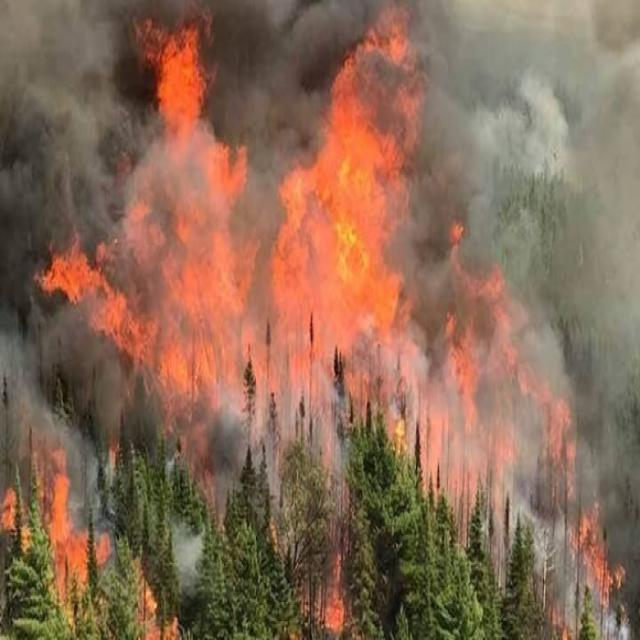Fire: (276, 168, 392, 320), (35, 472, 101, 625), (329, 72, 385, 182), (575, 505, 626, 610), (154, 38, 200, 120), (40, 245, 96, 308), (164, 343, 192, 396), (0, 488, 16, 534)
Smoke: (450, 5, 640, 208), (0, 2, 122, 214), (540, 218, 640, 398)
